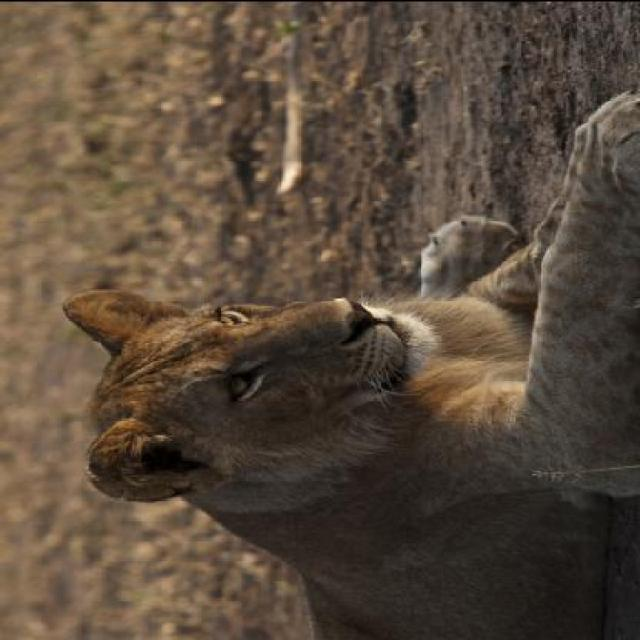Lion: (51, 84, 638, 638)
